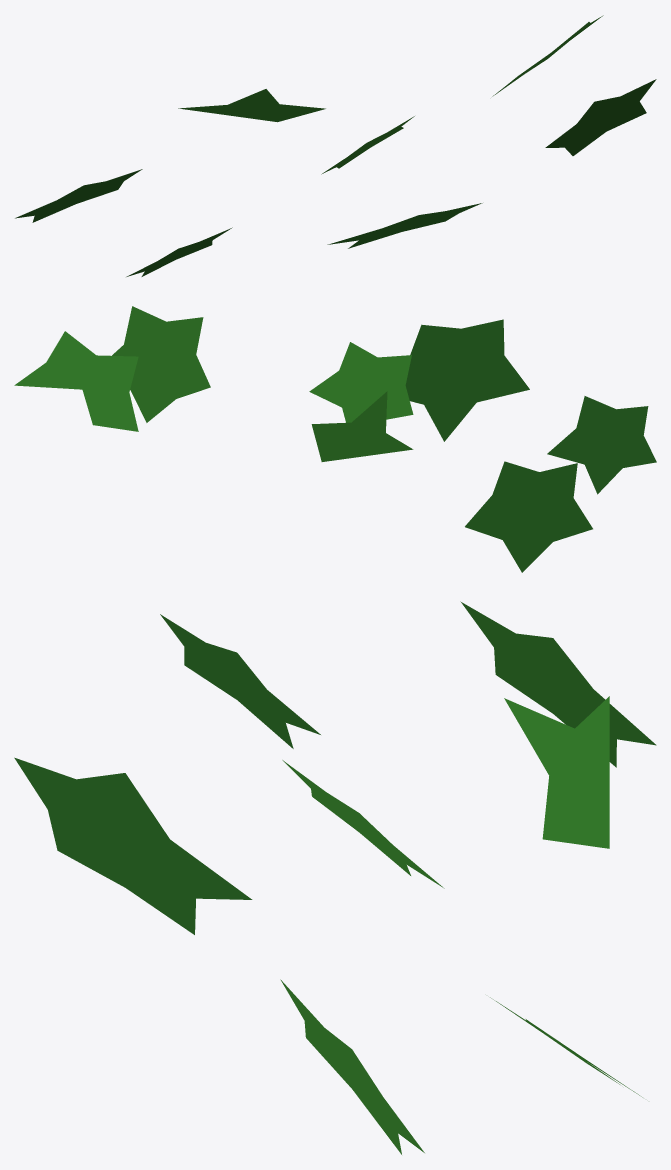
3 renders of one model, top to bottom at view 1: azimuth 30°, elevation 25°; view 2: azimuth 150°, elevation 25°; view 3: azimuth 270°, elevation 25°, orthographic. The views are drawn at different scales.
Parts seen in each view (by area): view 1: r27c3_l11; view 2: r27c3_l11; view 3: r27c3_l11.
Boxes of the visible parts, x1=… form: r27c3_l11: x1=15, y1=15, x2=656, y2=276; r27c3_l11: x1=14, y1=306, x2=656, y2=572; r27c3_l11: x1=14, y1=601, x2=656, y2=1154.
Size of the model in its own units: 1.69 by 0.3235 by 0.8882.
